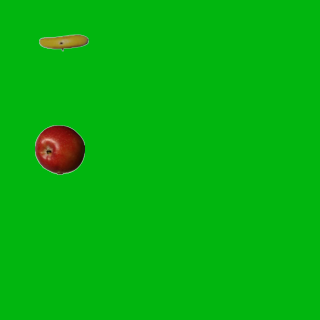Apple Braeburn: (34, 124, 84, 174)
Banana: (38, 17, 88, 67)
